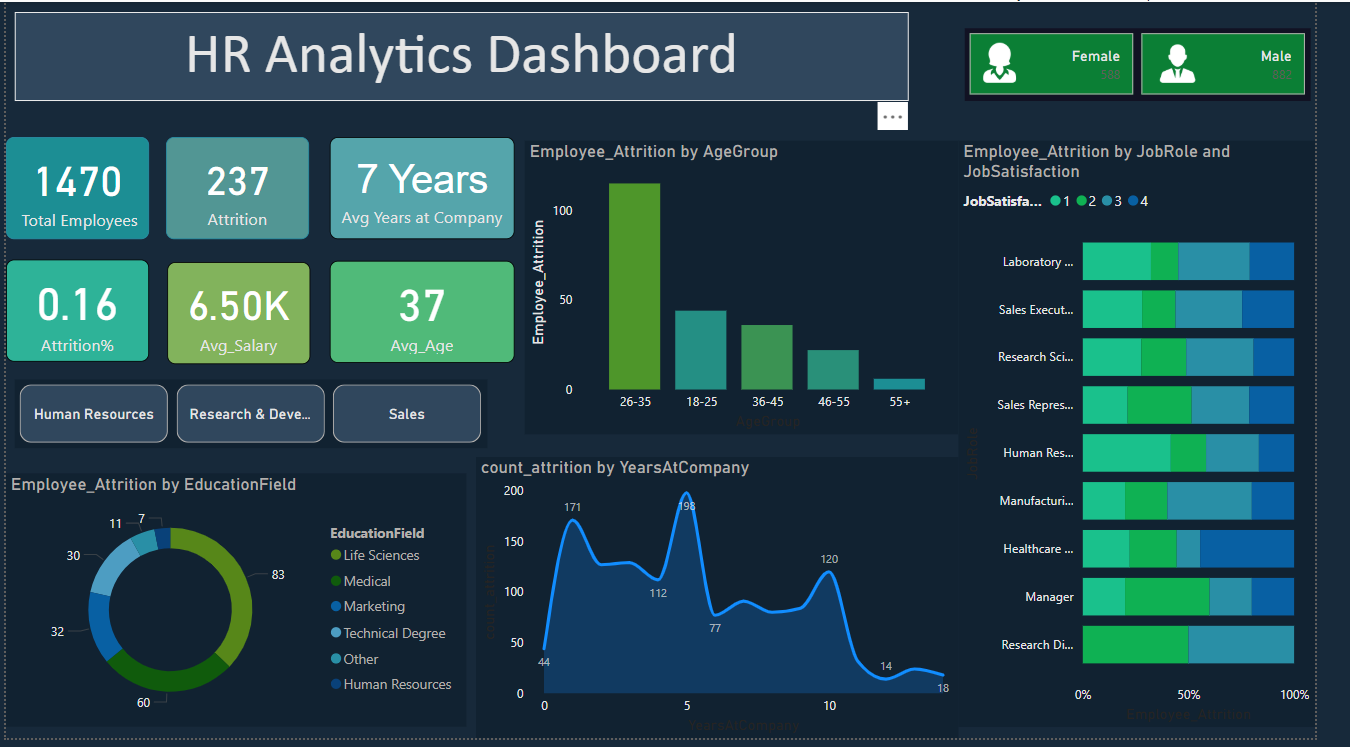

Layout of this report page (visuals, bound fields, positions):
{"tool":"powerbi","page":{"name":"Page 1","canvas":[1280,720],"ordinal":0},"visuals":[{"type":"advancedSlicerVisual","fields":{"Values":["HR_Analytics.Gender"]},"box":[937.9,25.7,338.7,70.9],"z":0},{"type":"image","box":[947.7,34.2,48.9,50.1],"z":1000},{"type":"card","fields":{"Values":["HR_Analytics.Employee_Count"]},"box":[0,132.1,140,100],"z":2000},{"type":"card","fields":{"Values":["HR_Analytics.Employee_Attrition"]},"box":[156.5,132.1,140,100],"z":3000},{"type":"card","fields":{"Values":["HR_Analytics.Years_With_Txt"]},"box":[316.7,132.1,181,100],"z":4000},{"type":"card","fields":{"Values":["HR_Analytics.Attrition%"]},"box":[0,251.9,140,100],"z":5000},{"type":"card","fields":{"Values":["HR_Analytics.Avg_Salary"]},"box":[157.7,254.3,140,100],"z":6000},{"type":"card","fields":{"Values":["HR_Analytics.Avg_Age"]},"box":[316.7,253.1,181,100],"z":7000},{"type":"areaChart","fields":{"Y":["HR_Analytics.count_attrition"],"Category":["HR_Analytics.YearsAtCompany"]},"box":[459.8,445.1,472,275.1],"z":8000},{"type":"donutChart","fields":{"Category":["HR_Analytics.EducationField"],"Y":["HR_Analytics.Employee_Attrition"]},"box":[0,461,450,248.2],"z":9000},{"type":"clusteredColumnChart","fields":{"Category":["HR_Analytics.AgeGroup"],"Y":["HR_Analytics.Employee_Attrition"]},"box":[507.5,135.7,424.3,287.4],"z":10000},{"type":"hundredPercentStackedBarChart","fields":{"Y":["HR_Analytics.Employee_Attrition"],"Series":["HR_Analytics.JobSatisfaction"],"Category":["HR_Analytics.JobRole"]},"box":[931.8,135.7,348.5,573.5],"z":11000},{"type":"image","box":[1122.6,36.7,47.7,47.7],"z":12000},{"type":"advancedSlicerVisual","fields":{"Values":["HR_Analytics.Department"]},"box":[8.6,369.3,462.2,67.3],"z":12001},{"type":"textbox","box":[8.6,9.8,874.3,86.8],"z":12002}]}

Visuals, with their boxes in screenshot pixels (x1, y1, x2, y2), scaled from the page's 1280x720 canvas onto the 1350x747 screenshot:
advancedSlicerVisual - HR_Analytics.Gender: {"x1": 989, "y1": 27, "x2": 1346, "y2": 100}
image: {"x1": 1000, "y1": 35, "x2": 1051, "y2": 87}
card - HR_Analytics.Employee_Count: {"x1": 0, "y1": 137, "x2": 148, "y2": 241}
card - HR_Analytics.Employee_Attrition: {"x1": 165, "y1": 137, "x2": 313, "y2": 241}
card - HR_Analytics.Years_With_Txt: {"x1": 334, "y1": 137, "x2": 525, "y2": 241}
card - HR_Analytics.Attrition%: {"x1": 0, "y1": 261, "x2": 148, "y2": 365}
card - HR_Analytics.Avg_Salary: {"x1": 166, "y1": 264, "x2": 314, "y2": 368}
card - HR_Analytics.Avg_Age: {"x1": 334, "y1": 263, "x2": 525, "y2": 366}
areaChart - HR_Analytics.count_attrition x HR_Analytics.YearsAtCompany: {"x1": 485, "y1": 462, "x2": 983, "y2": 746}
donutChart - HR_Analytics.EducationField x HR_Analytics.Employee_Attrition: {"x1": 0, "y1": 478, "x2": 475, "y2": 736}
clusteredColumnChart - HR_Analytics.AgeGroup x HR_Analytics.Employee_Attrition: {"x1": 535, "y1": 141, "x2": 983, "y2": 439}
hundredPercentStackedBarChart - HR_Analytics.Employee_Attrition x HR_Analytics.JobSatisfaction: {"x1": 983, "y1": 141, "x2": 1349, "y2": 736}
image: {"x1": 1184, "y1": 38, "x2": 1234, "y2": 88}
advancedSlicerVisual - HR_Analytics.Department: {"x1": 9, "y1": 383, "x2": 497, "y2": 453}
textbox: {"x1": 9, "y1": 10, "x2": 931, "y2": 100}
